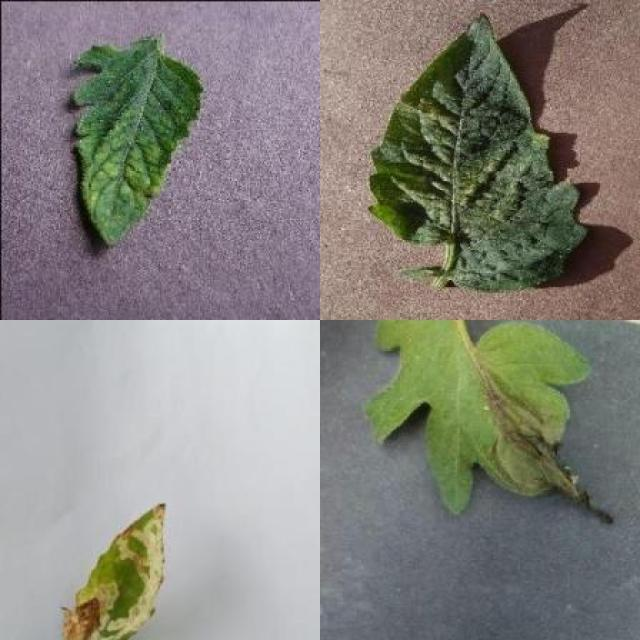Late Blight: (365, 320, 614, 526)
Leaf Miner: (58, 495, 167, 640)
Mosaic Virus: (69, 38, 205, 252)
Spider Mites: (368, 11, 586, 292)
